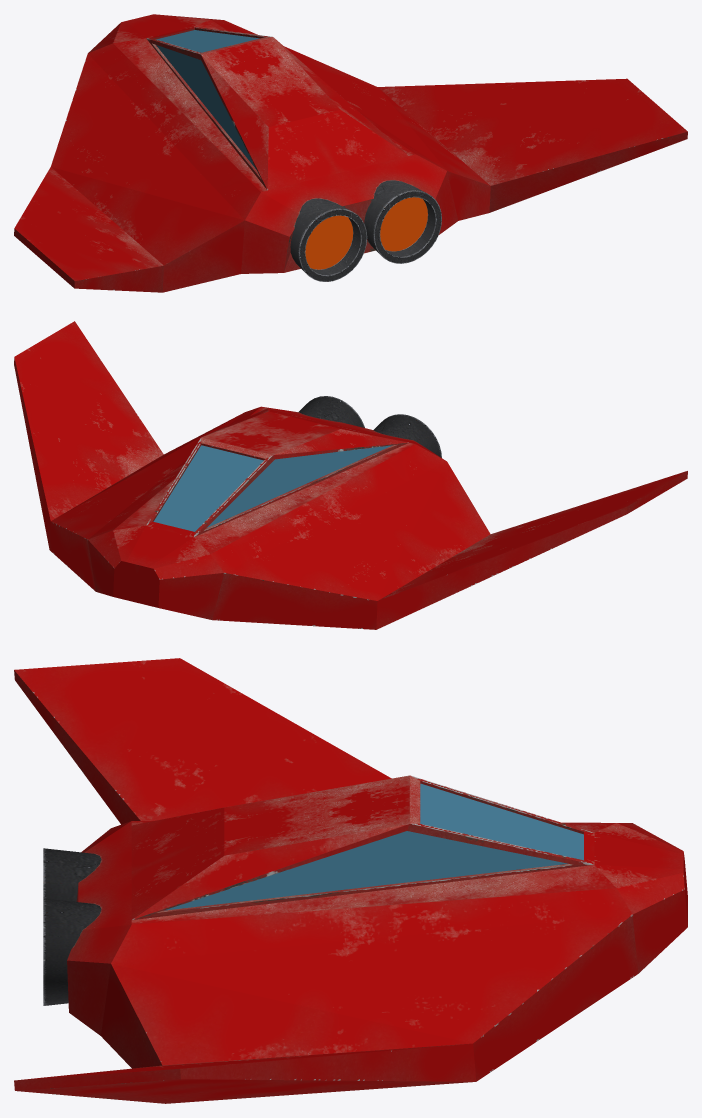
The model's file is ship.gltf.
The picture shows the model from 3 angles, top to bottom: view 1: azimuth 30°, elevation 25°; view 2: azimuth 150°, elevation 25°; view 3: azimuth 270°, elevation 25°; orthographic projection. The views are drawn at different scales.
Parts seen in each view (by area): view 1: ship; view 2: ship; view 3: ship.
Boxes of the visible parts, x1,y1,x2,y2 form: ship: (14, 14, 687, 292); ship: (14, 321, 687, 629); ship: (14, 658, 687, 1103).
Bounding box in the file's own units: 2.45 × 0.5427 × 1.7.
1 material, 1 textured.
